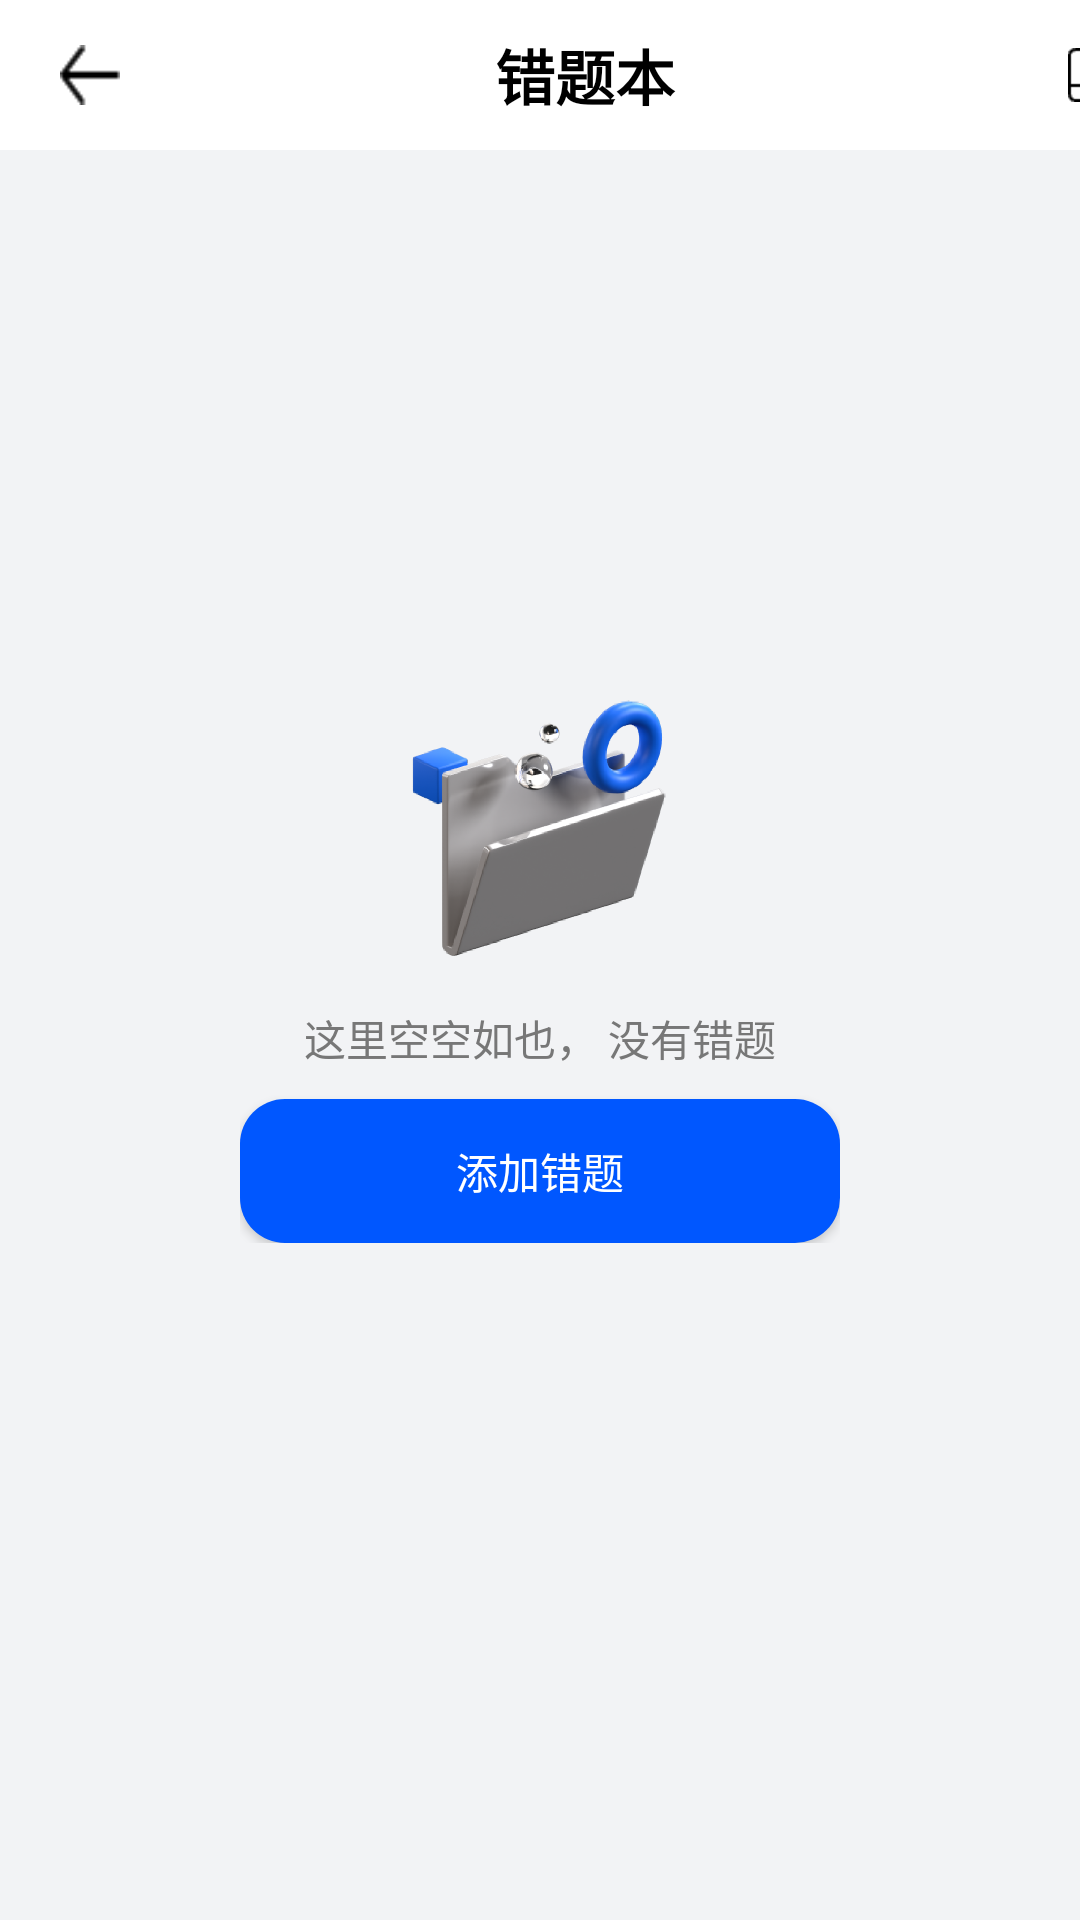

Where icons sit on this 1080 × 1920 app screen, as (left=x1, top=y1, right=x2, bottom=y2):
back: (left=60, top=45, right=120, bottom=105)
